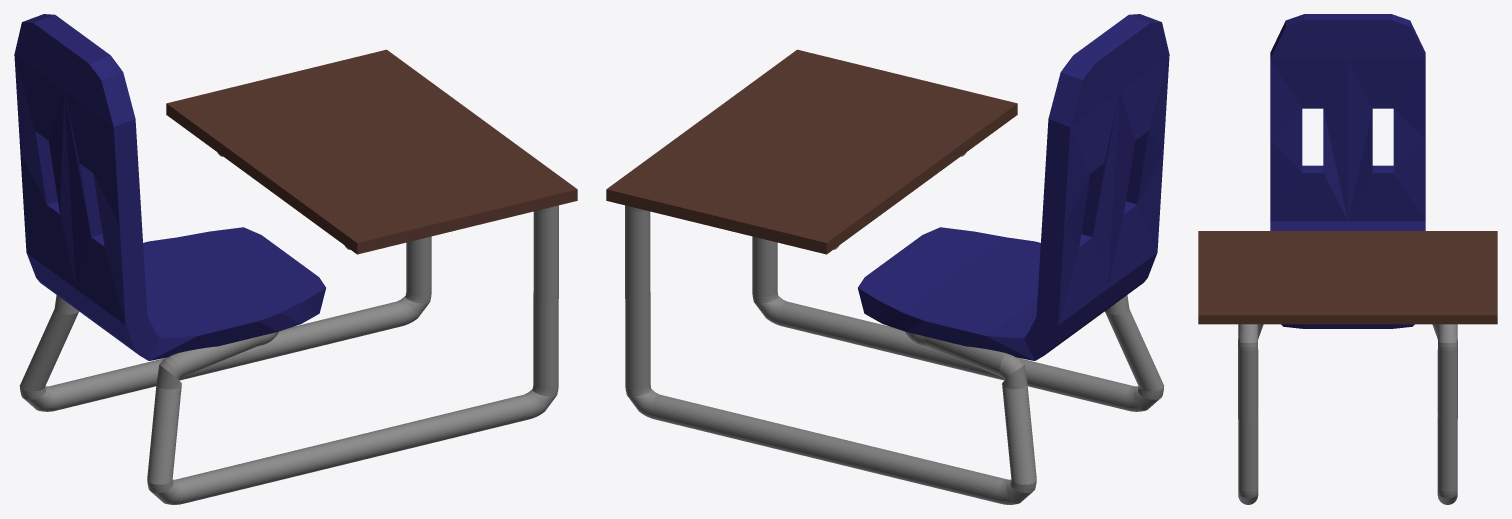
Rendered from Table Chair.dae.
3 views of the same model, side by side, from view 1: azimuth 30°, elevation 25°; view 2: azimuth 150°, elevation 25°; view 3: azimuth 270°, elevation 25° (orthographic). The views are drawn at different scales.
Visible parts, largest first — view 1: Cube; view 2: Cube; view 3: Cube.
Boxes of the visible parts, x1,y1,x2,y2 form: Cube: [14, 14, 577, 504]; Cube: [606, 14, 1169, 504]; Cube: [1198, 14, 1497, 504].
Size of the model in its own units: 3.92 by 3 by 3.73.
